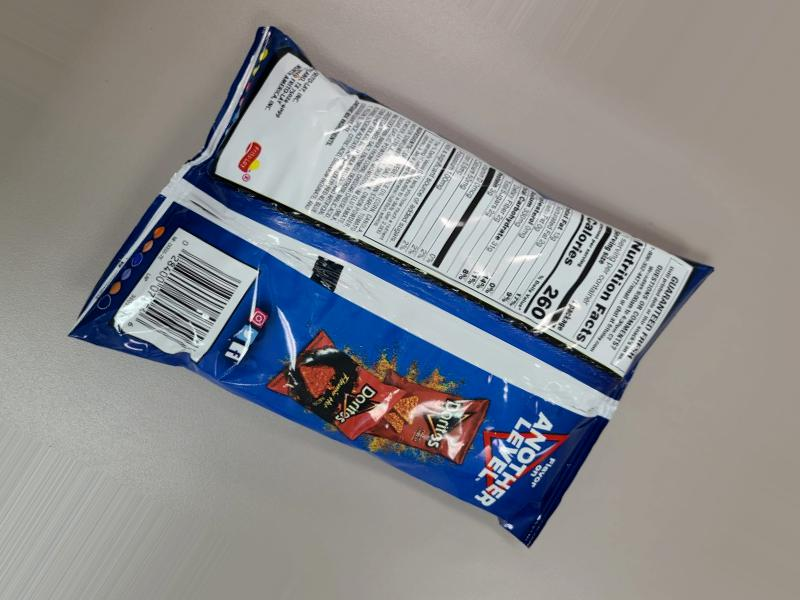doritos: (102, 49, 718, 533)
